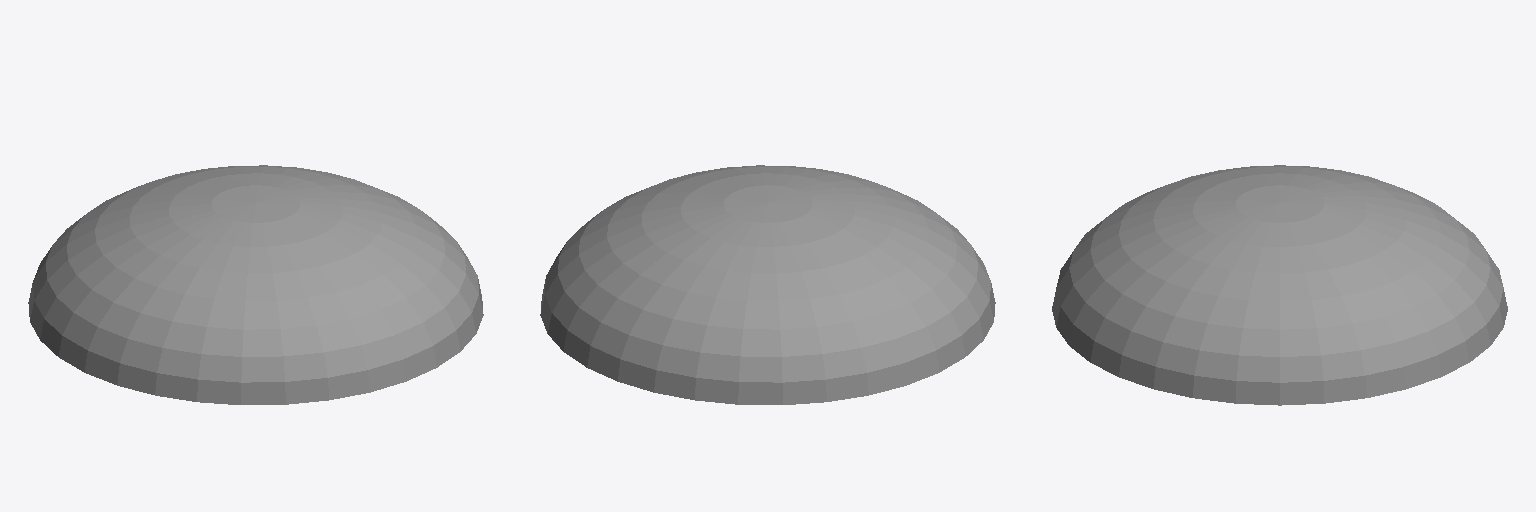
The model's file is Sky.obj.
3 views of the same model, side by side, from view 1: azimuth 30°, elevation 25°; view 2: azimuth 150°, elevation 25°; view 3: azimuth 270°, elevation 25° (orthographic).
Parts seen in each view (by area): view 1: Sphere; view 2: Sphere; view 3: Sphere.
Part boxes in pixels (left/top/right/bottom): Sphere: left=28, top=165, right=483, bottom=404; Sphere: left=540, top=165, right=995, bottom=404; Sphere: left=1052, top=165, right=1507, bottom=405.
Size of the model in its own units: 17.49 by 4.5 by 17.49.